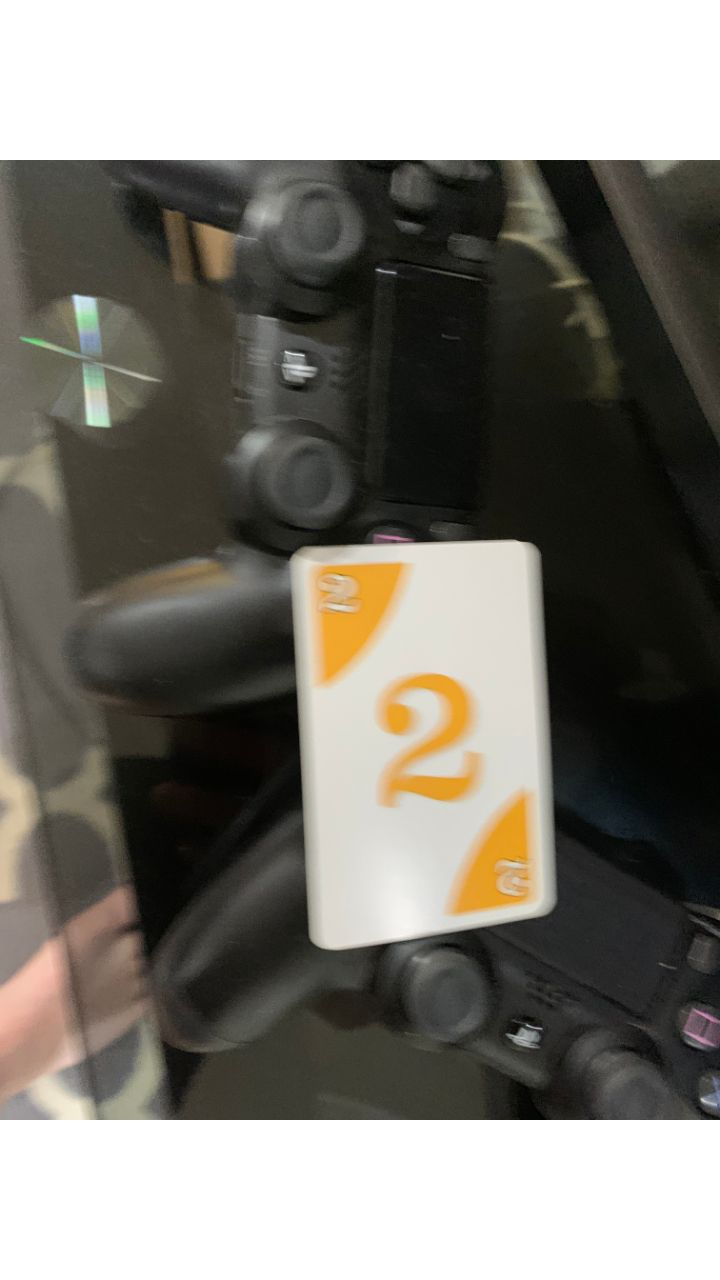two: (290, 540, 552, 952)
